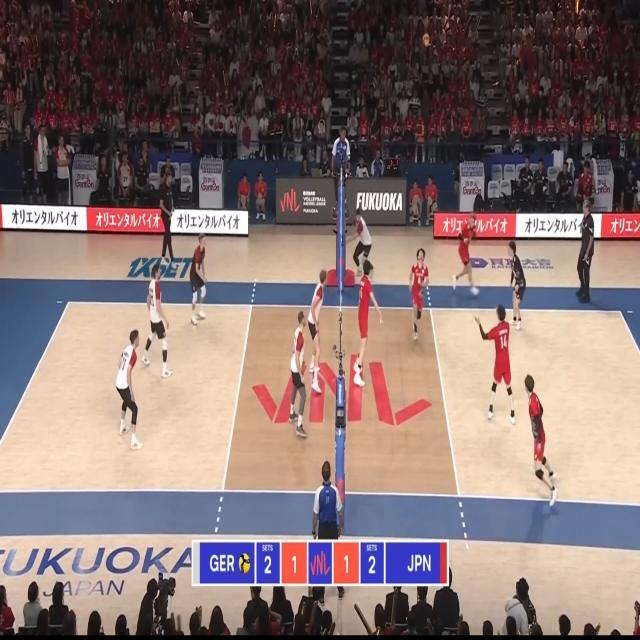ball: (423, 33, 430, 47)
